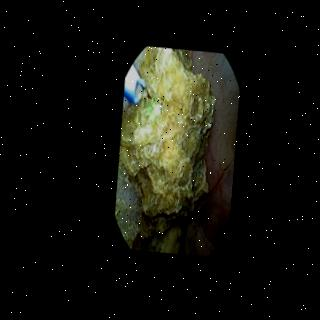fiber: (122, 65, 140, 103)
stone: (116, 50, 211, 253)
tissue: (195, 59, 235, 255)
